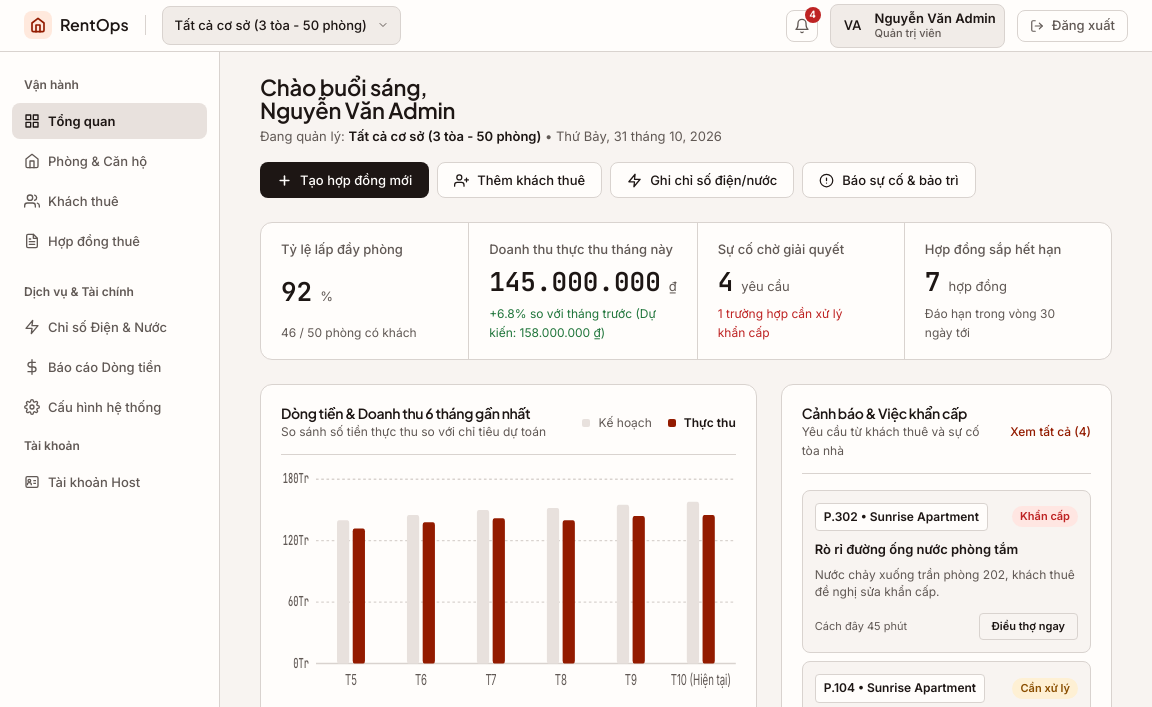
UC05 App integration › handles CSRF rejection as recoverable and fetches a fresh token only on explicit retry
This screenshot has width=1152, height=707.
Click the button with aria-label "Xem hồ sơ cá nhân của" at (917, 26), box [830, 4, 1005, 48]
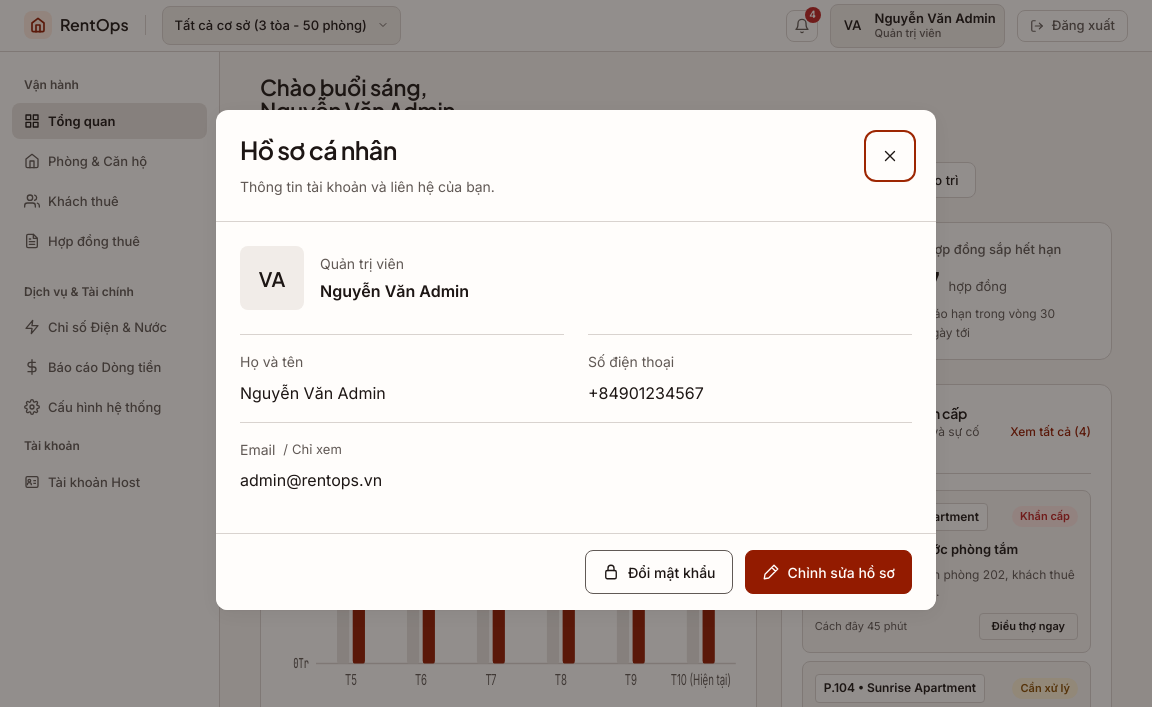
Click the button "Đổi mật khẩu" at (659, 572), box [585, 550, 732, 594]
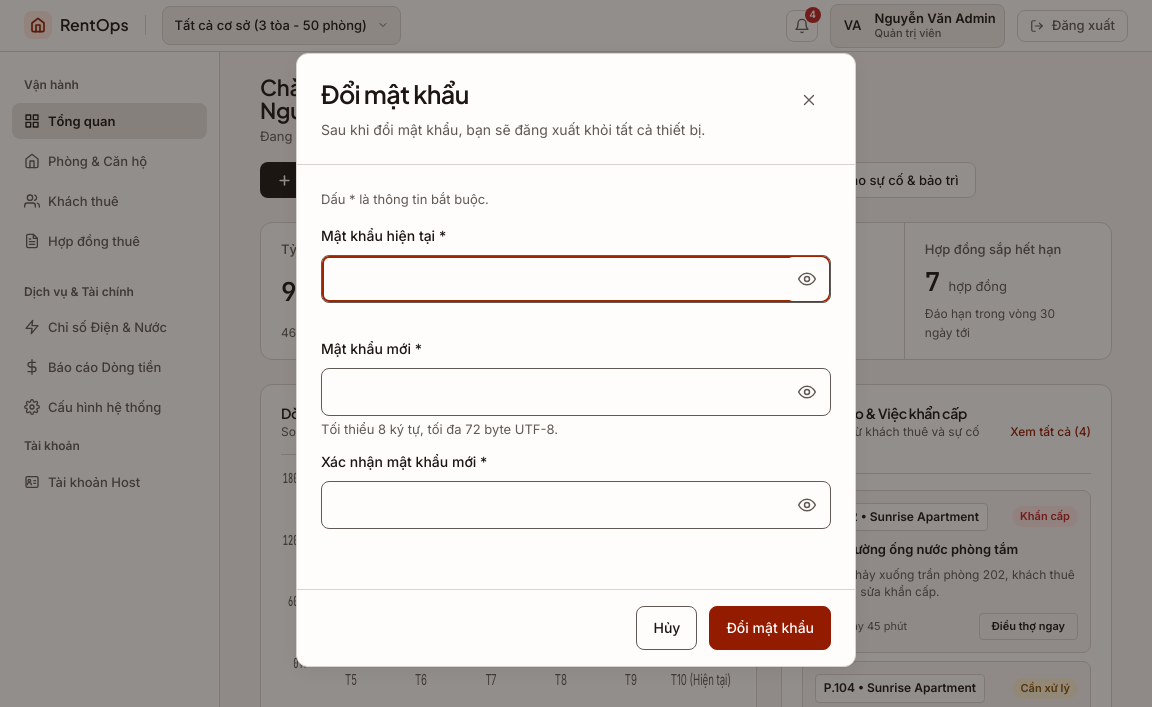
Type "old" into the password field labelled "Mật khẩu hiện tại *" at (576, 279), box [321, 255, 831, 303]
Type " newPassword123 " into the password field labelled "Mật khẩu mới *" at (576, 392), box [321, 368, 831, 416]
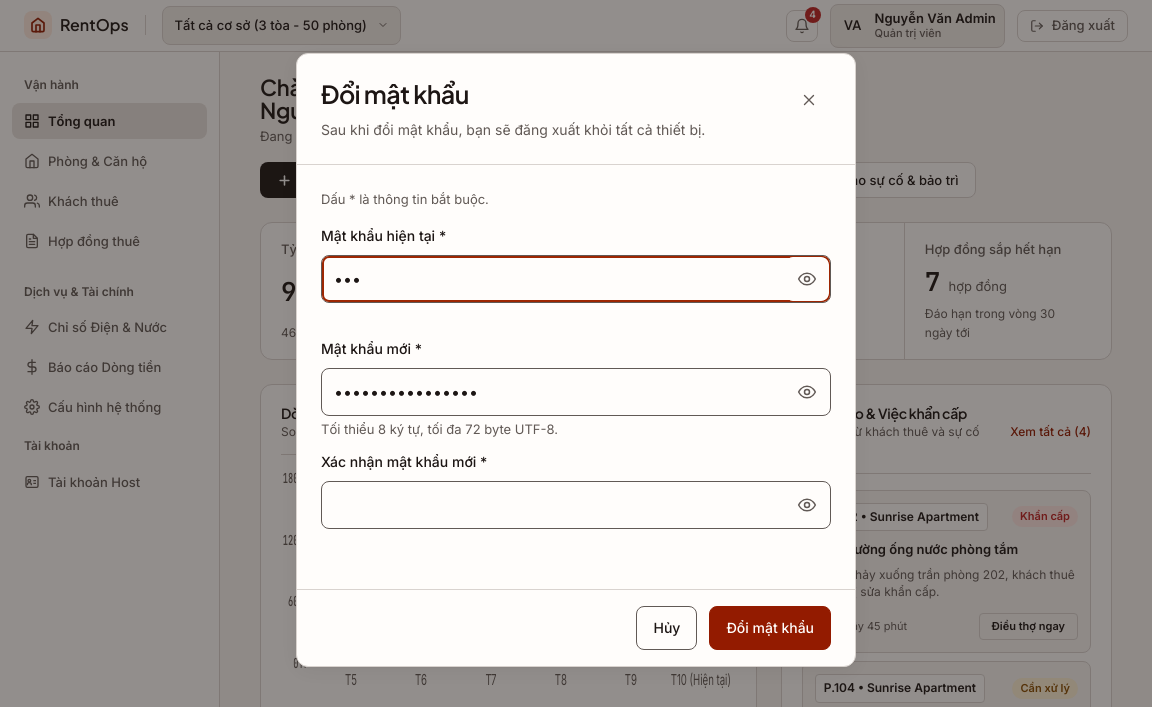
Type " newPassword123 " into the password field labelled "Xác nhận mật khẩu mới *" at (576, 505), box [321, 481, 831, 529]
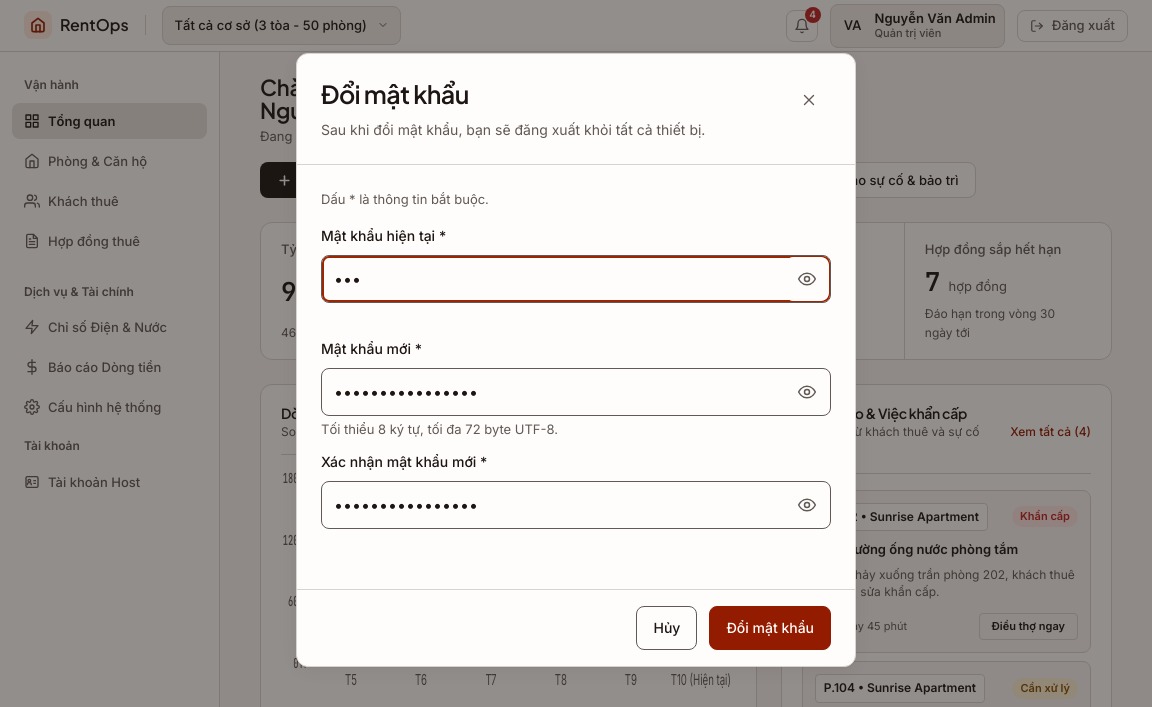
Click the button "Đổi mật khẩu" at (770, 628), box [709, 606, 831, 650]
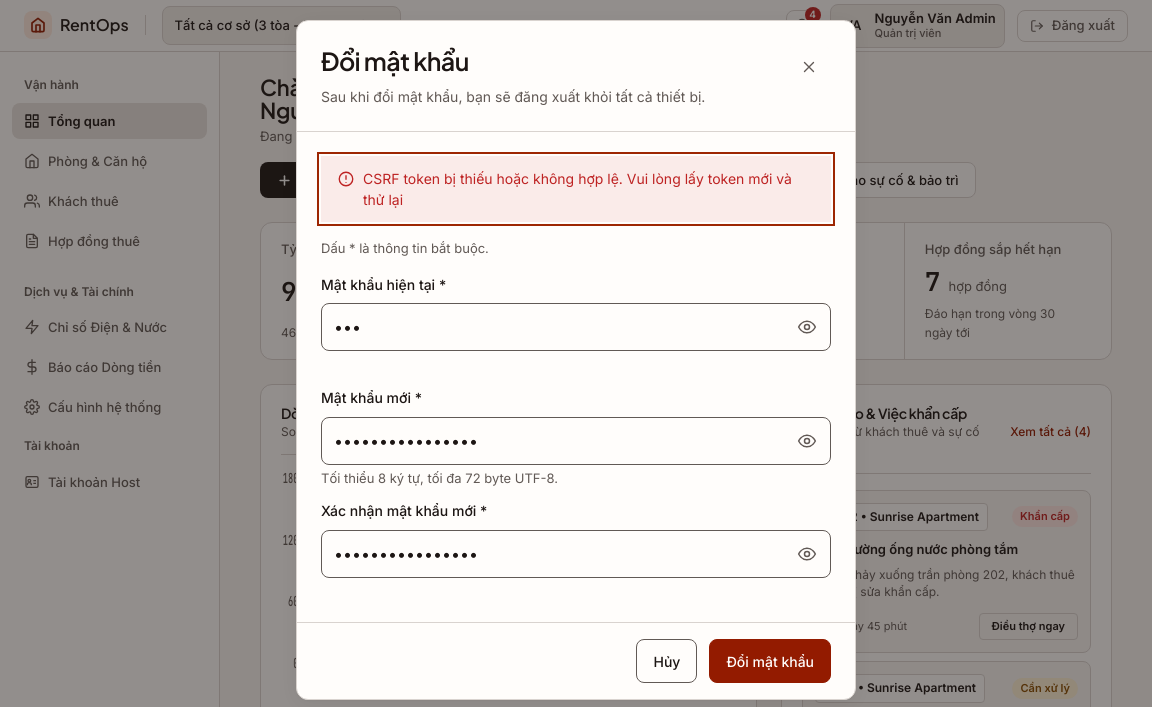
Expected: the text "CSRF token bị thiếu hoặc không hợp lệ. Vui lòng lấy token mới và thử lại" is shown, [363, 168, 815, 210]
Click the button "Đổi mật khẩu" at (770, 661), box [709, 639, 831, 683]
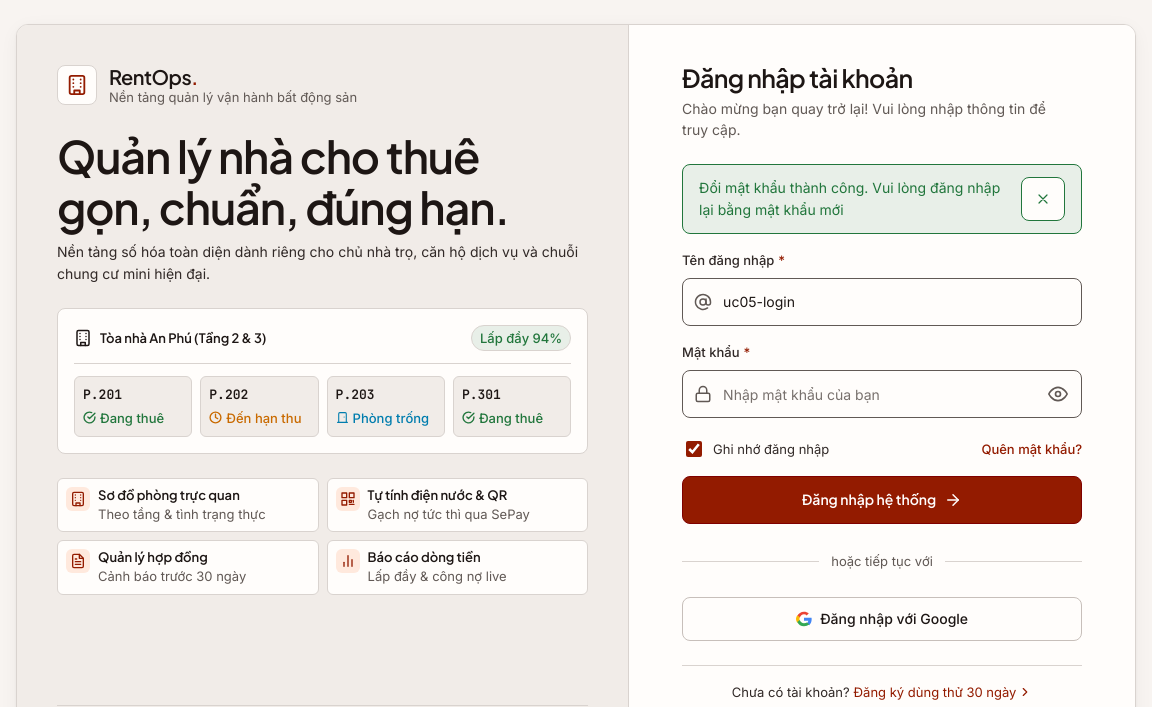
Expected: the text "Đổi mật khẩu thành công. Vui lòng đăng nhập lại bằng mật khẩu mới" is shown, [699, 177, 1013, 220]
